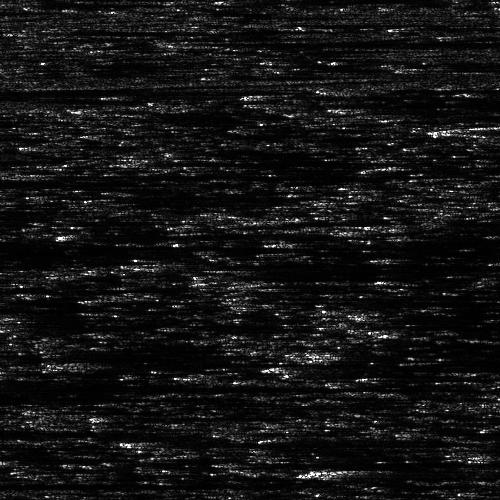rock: (373, 114, 500, 143), (48, 434, 215, 447), (123, 36, 248, 49), (0, 357, 124, 366), (269, 465, 362, 476), (215, 91, 308, 98), (3, 171, 66, 176), (0, 381, 17, 390), (24, 28, 65, 31)
shadow: (186, 36, 500, 49), (132, 434, 395, 447), (0, 381, 337, 390), (316, 465, 500, 476), (0, 479, 217, 488), (0, 87, 221, 94), (452, 114, 500, 143), (262, 91, 432, 98), (0, 392, 124, 401), (62, 357, 172, 366), (45, 28, 267, 31), (35, 171, 87, 176)
